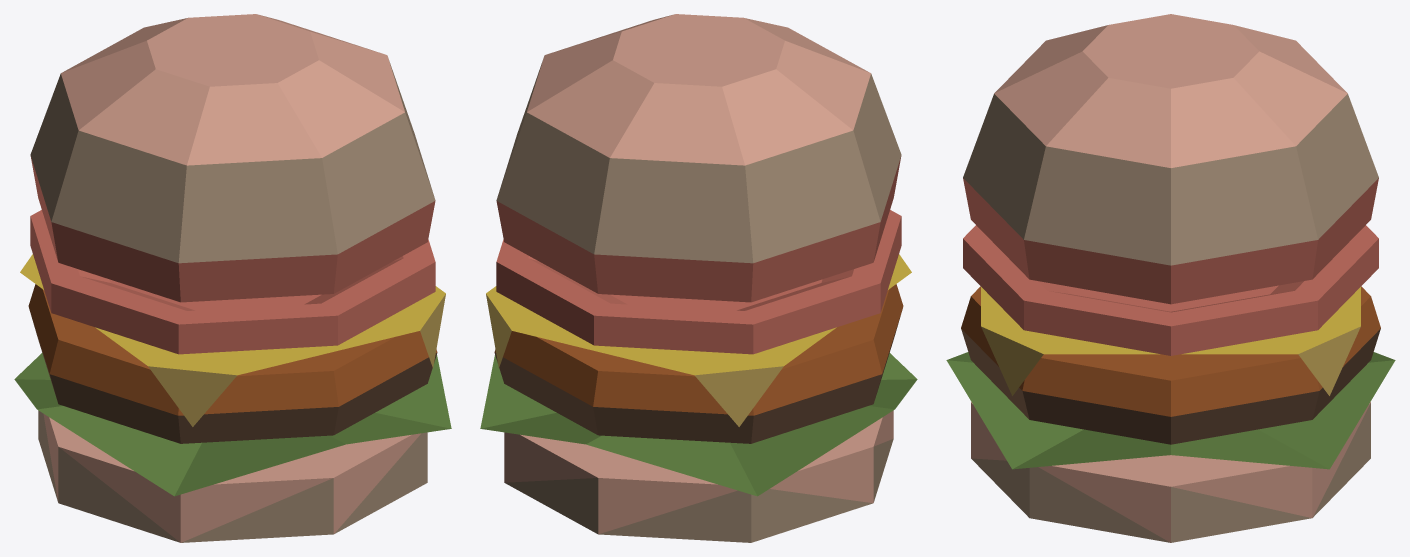
Rendered from burger.glb.
The picture shows the model from 3 angles, left to right: view 1: azimuth 30°, elevation 25°; view 2: azimuth 150°, elevation 25°; view 3: azimuth 270°, elevation 25°; orthographic projection.
Size of the model in its own units: 1 by 1 by 1.
